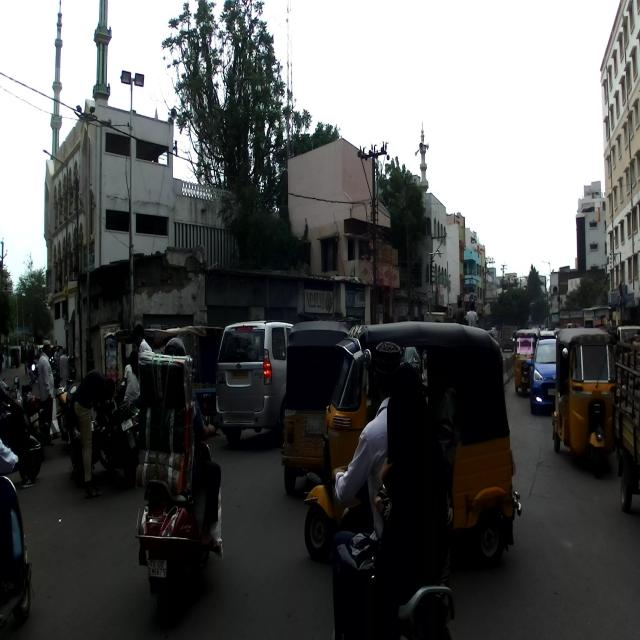Car_Mahindra: (213, 321, 296, 446)
autorickshaw: (303, 318, 522, 577), (280, 318, 352, 496), (552, 325, 616, 476)
scooter: (322, 462, 455, 638), (133, 418, 229, 619)
